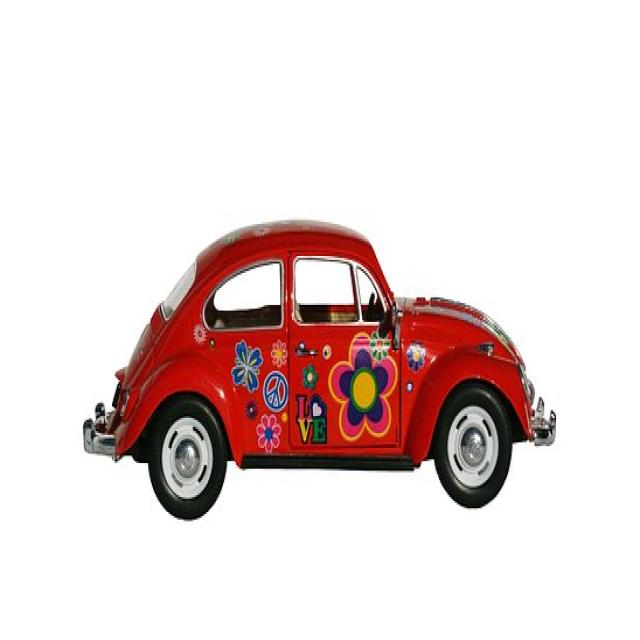Car: (82, 216, 556, 520)
